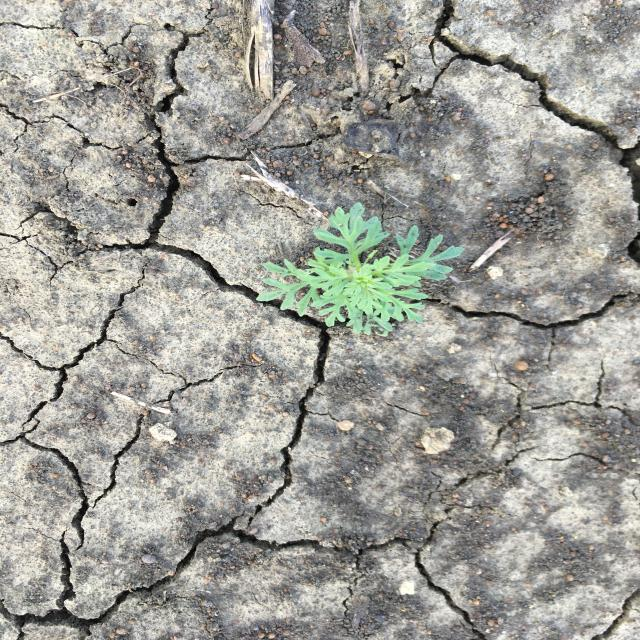Ragweed: (253, 198, 467, 340)
